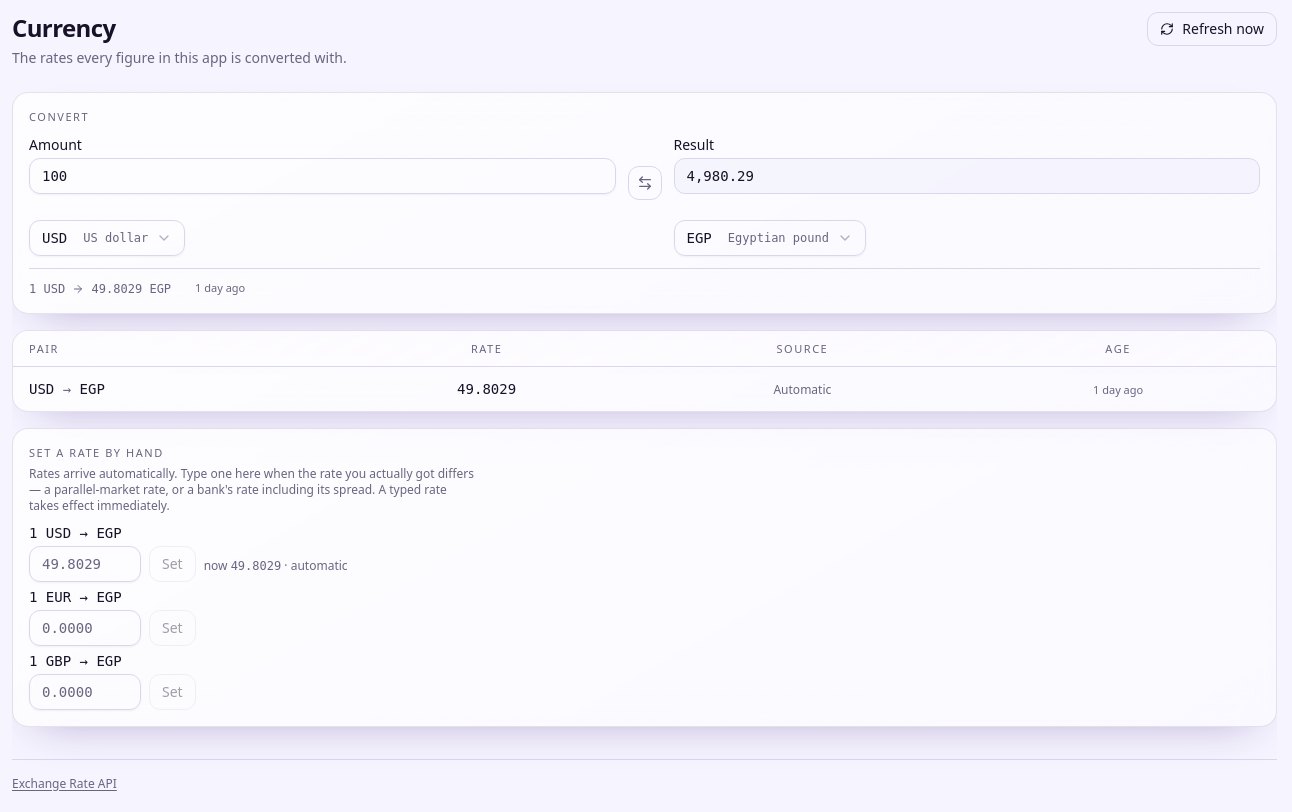
the converter › swaps the two currencies round
Click the button named "Swap the two currencies".
click(644, 182)  # box [628,166,662,200]
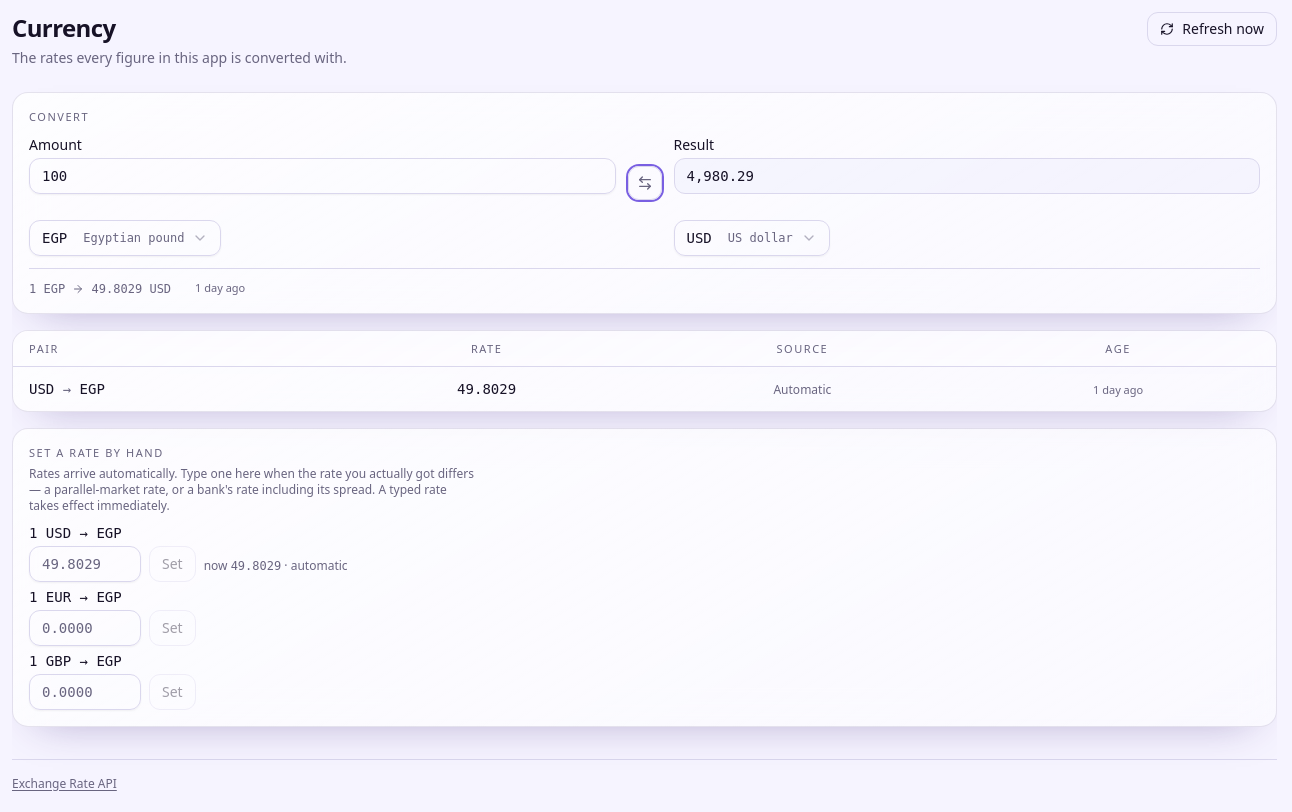
Check: the text "EGP" is shown, box [42,228,67,248]
Check: the text "USD" is shown, box [686,228,712,248]
